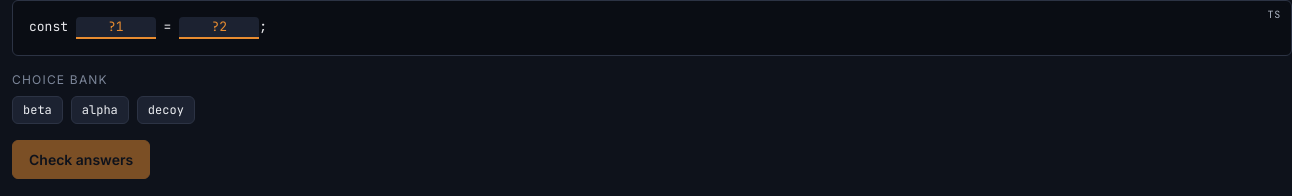
Test: BlanksLesson › picked choices fill blanks in order and are marked used
This screenshot has width=1292, height=196.
Click the button with class "lesson__choice" showing "alpha" at (100, 110), box top-left (71, 96), bottom-right (129, 124)
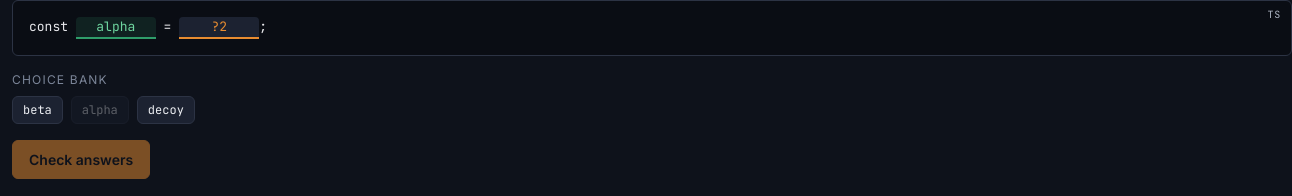
Expected: the button with class "lesson__blank" reads "?2", top-left (179, 17), bottom-right (259, 39)
Now the button with class "lesson__blank" next to "const" reads "alpha", box top-left (76, 17), bottom-right (156, 39)
